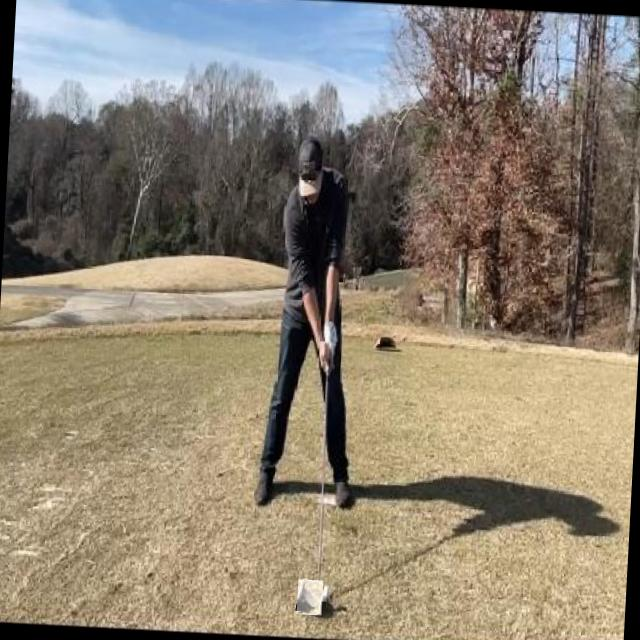club head: (296, 580, 324, 616)
